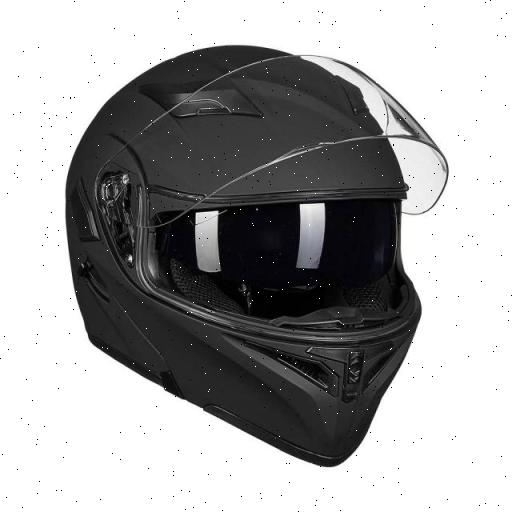Helmet: (67, 47, 447, 465)
